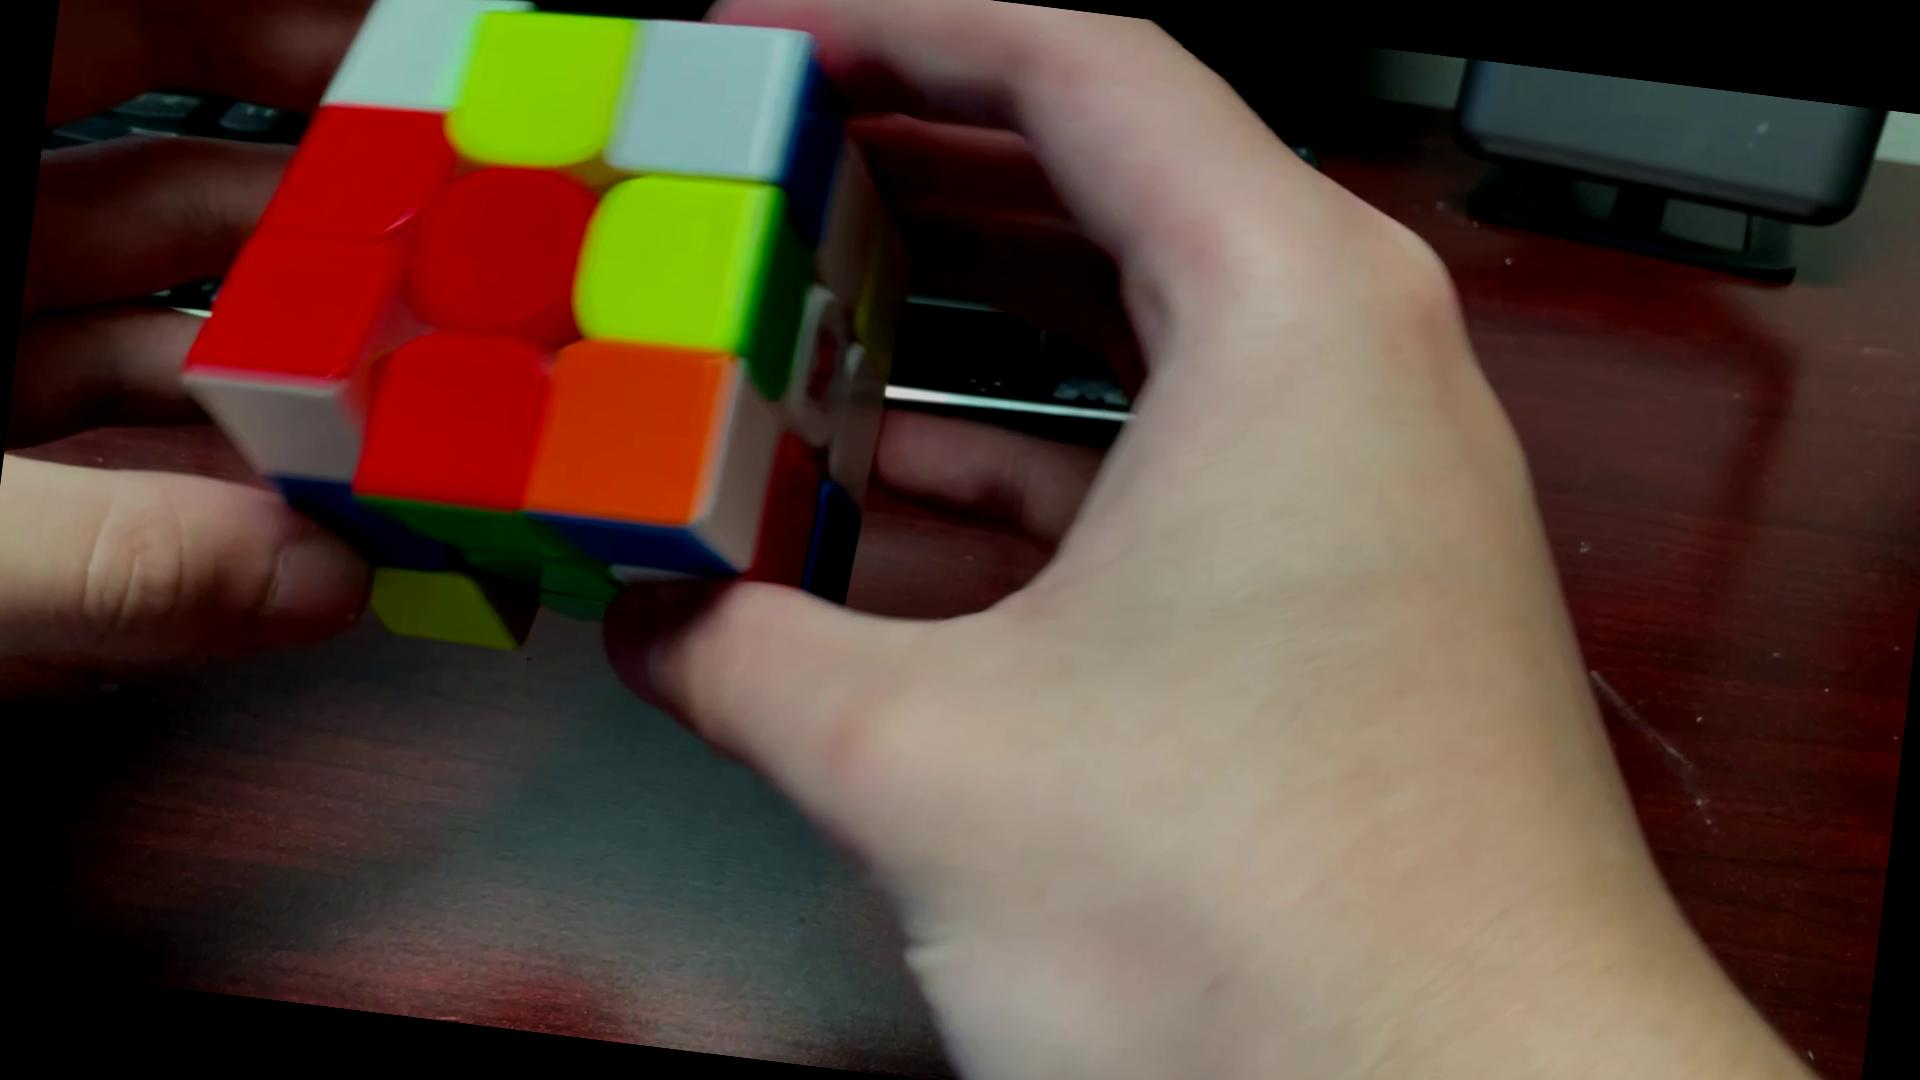Rubiks-Cube: (137, 0, 956, 705)
